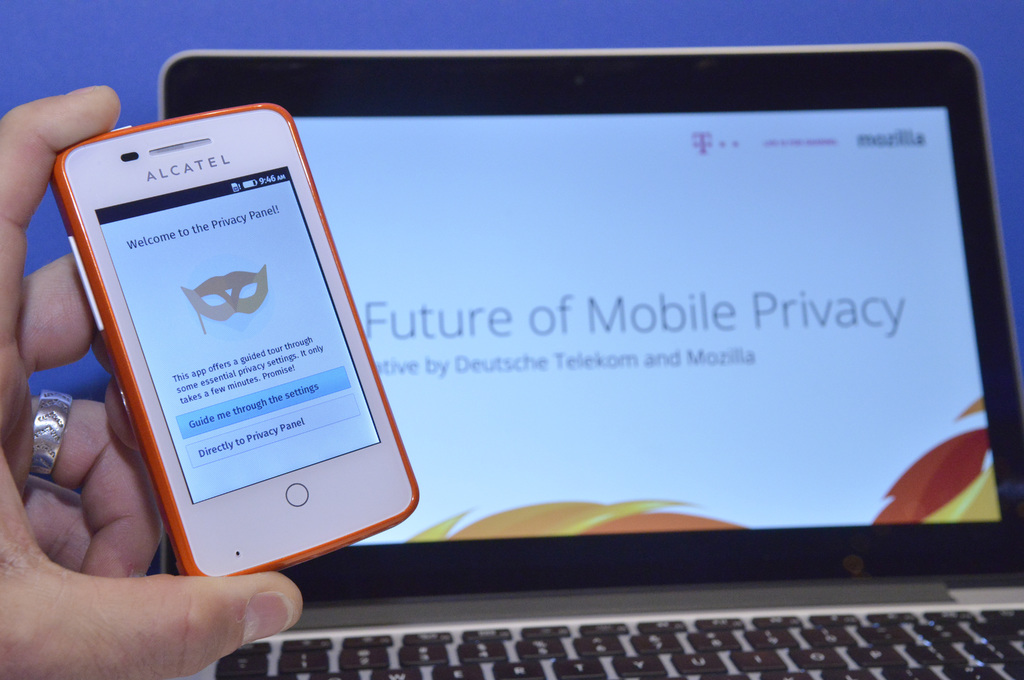Mobile-phone: (43, 110, 415, 572)
